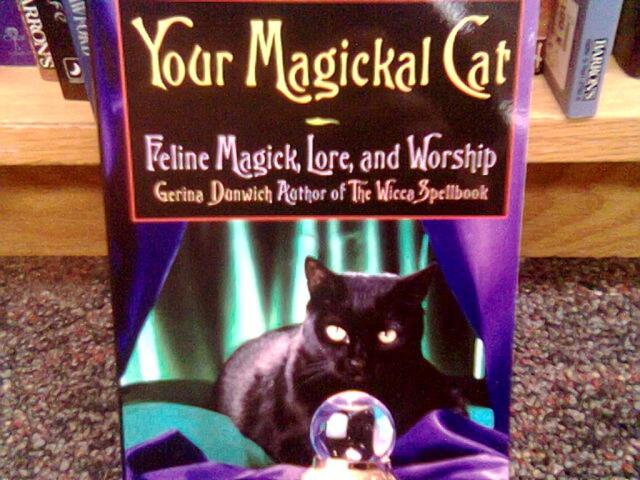Cat: (113, 253, 467, 468)
